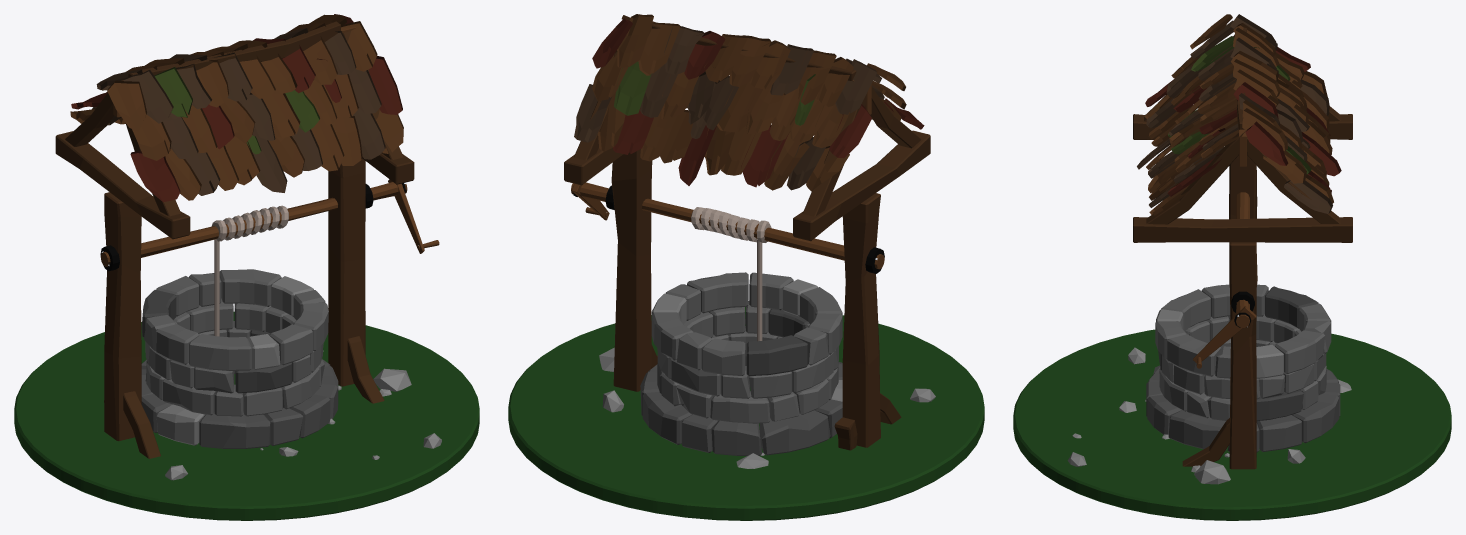
The model's file is lowpoly_well.gltf.
The picture shows the model from 3 angles, left to right: view 1: azimuth 30°, elevation 25°; view 2: azimuth 150°, elevation 25°; view 3: azimuth 270°, elevation 25°; orthographic projection. The views are drawn at different scales.
Parts seen in each view (by area): view 1: Cylinder.007, Plane.036, Cube.003, Cube.005, Cube.004, Cube, Cube.002, Cube.001, Cube.007, Plane.093, Cylinder, Cube.014 (+8 smaller); view 2: Cylinder.007, Plane.093, Cube.003, Cube.004, Cube.005, Cube, Cube.002, Cube.001, Cube.007, Cylinder, Cylinder.005, Plane.036 (+6 smaller); view 3: Cylinder.007, Plane.093, Plane.036, Cube.003, Cube, Cube.004, Cube.006, Cube.002, Cube.001, Cube.009, Cube.005, Cube.008 (+5 smaller).
Boxes of the visible parts, left/top/right/bottom form: Cylinder.007: left=14, top=311, right=479, bottom=520; Plane.036: left=107, top=21, right=403, bottom=202; Cube.003: left=141, top=269, right=328, bottom=370; Cube.005: left=104, top=192, right=141, bottom=441; Cube.004: left=328, top=158, right=365, bottom=386; Cube: left=141, top=359, right=338, bottom=448; Cube.002: left=145, top=298, right=323, bottom=393; Cube.001: left=145, top=321, right=324, bottom=416; Cube.007: left=55, top=131, right=190, bottom=239; Plane.093: left=70, top=14, right=353, bottom=125; Cylinder: left=100, top=182, right=407, bottom=266; Cube.014: left=128, top=21, right=340, bottom=76; Cylinder.007: left=508, top=307, right=984, bottom=520; Plane.093: left=574, top=14, right=876, bottom=191; Cube.003: left=651, top=272, right=842, bottom=376; Cube.004: left=611, top=149, right=652, bottom=391; Cube.005: left=842, top=193, right=880, bottom=447; Cube: left=640, top=357, right=842, bottom=455; Cube.002: left=657, top=301, right=838, bottom=398; Cube.001: left=657, top=326, right=838, bottom=423; Cube.007: left=793, top=130, right=930, bottom=241; Cylinder: left=571, top=182, right=884, bottom=269; Cylinder.005: left=691, top=207, right=771, bottom=242; Plane.036: left=621, top=15, right=924, bottom=129; Cylinder.007: left=1013, top=329, right=1451, bottom=520; Plane.093: left=1230, top=14, right=1341, bottom=213; Plane.036: left=1137, top=14, right=1245, bottom=216; Cube.003: left=1155, top=284, right=1331, bottom=378; Cube: left=1146, top=365, right=1340, bottom=452; Cube.004: left=1229, top=242, right=1257, bottom=469; Cube.006: left=1133, top=217, right=1352, bottom=242; Cube.002: left=1158, top=314, right=1326, bottom=399; Cube.001: left=1159, top=338, right=1326, bottom=421; Cube.009: left=1146, top=133, right=1238, bottom=224; Cube.005: left=1229, top=155, right=1257, bottom=284; Cube.008: left=1247, top=137, right=1340, bottom=223.
Size of the model in its own units: 32.44 by 29.69 by 32.44.
